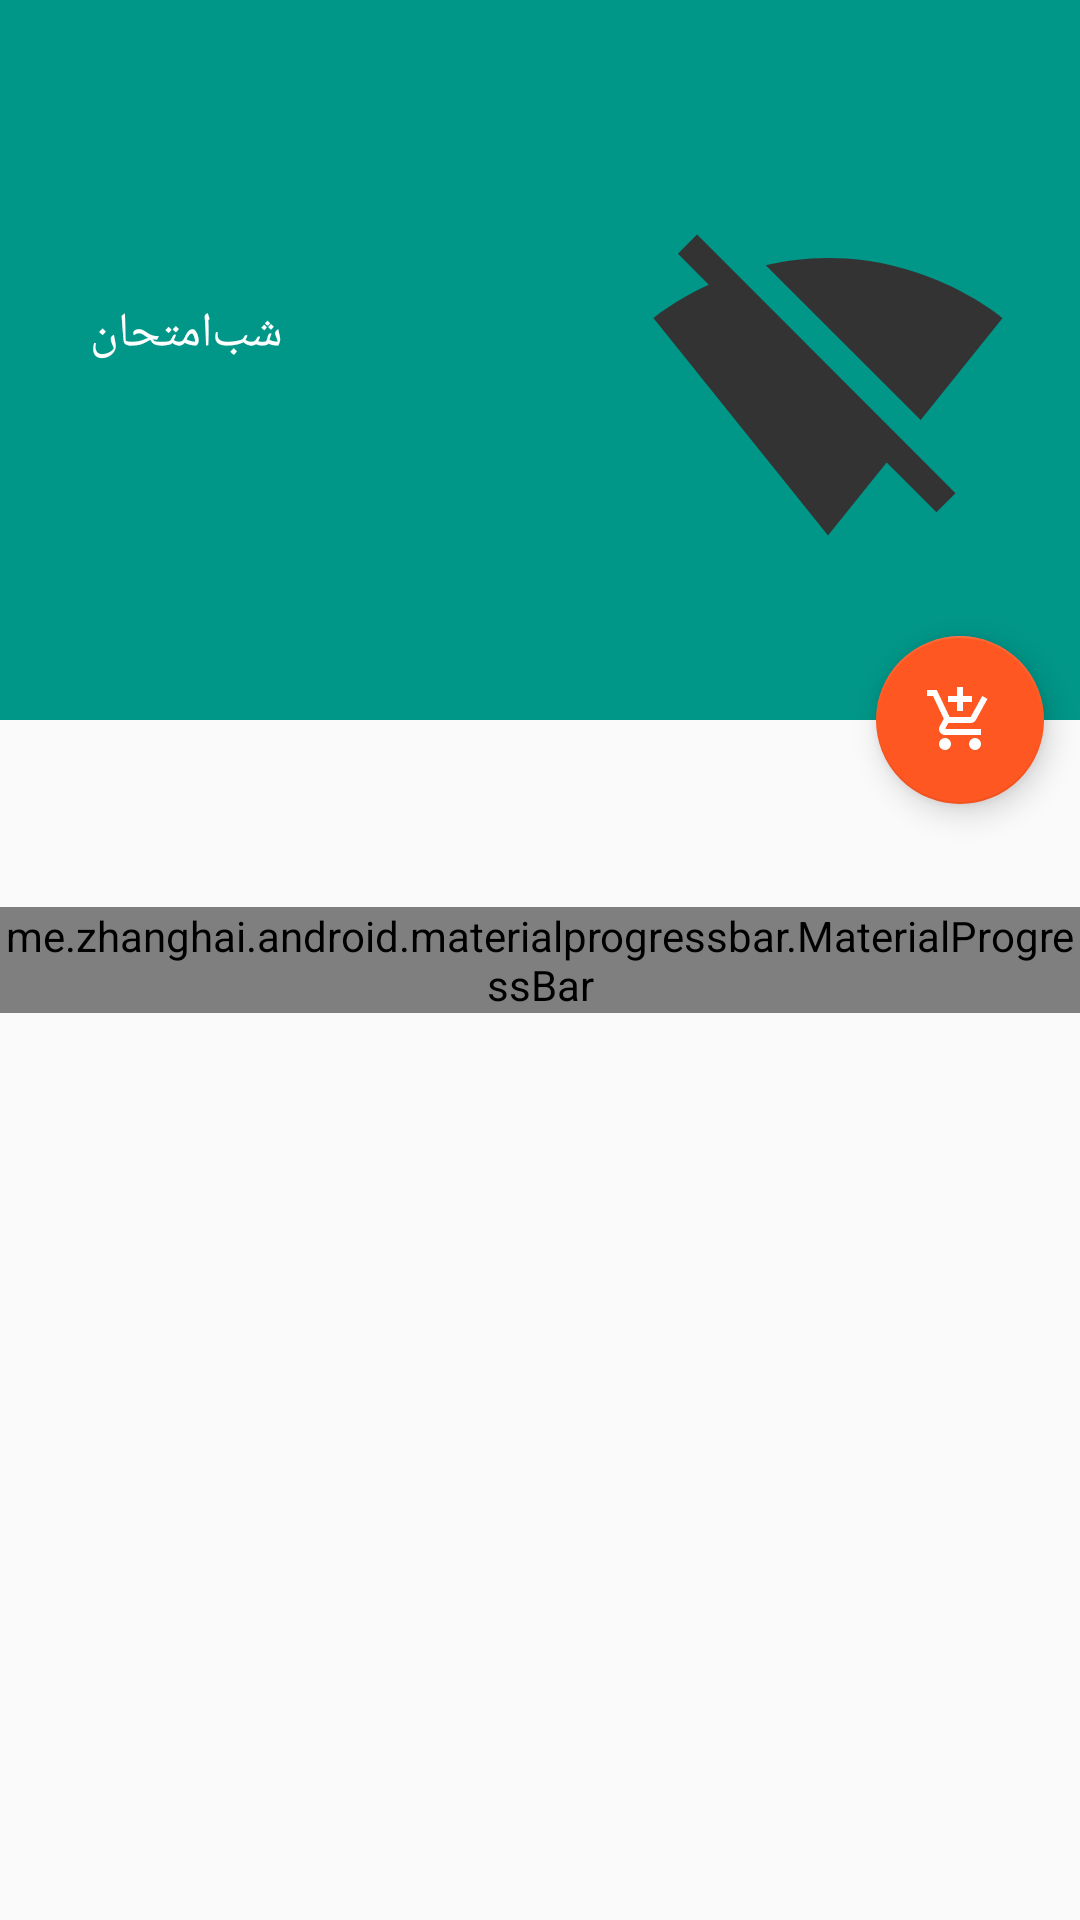

Point at icon controls on the screen. Image size 1080px x 1920px, points as point (x, y).
add shopping cart: point (960, 720)
no signal: point (828, 385)
